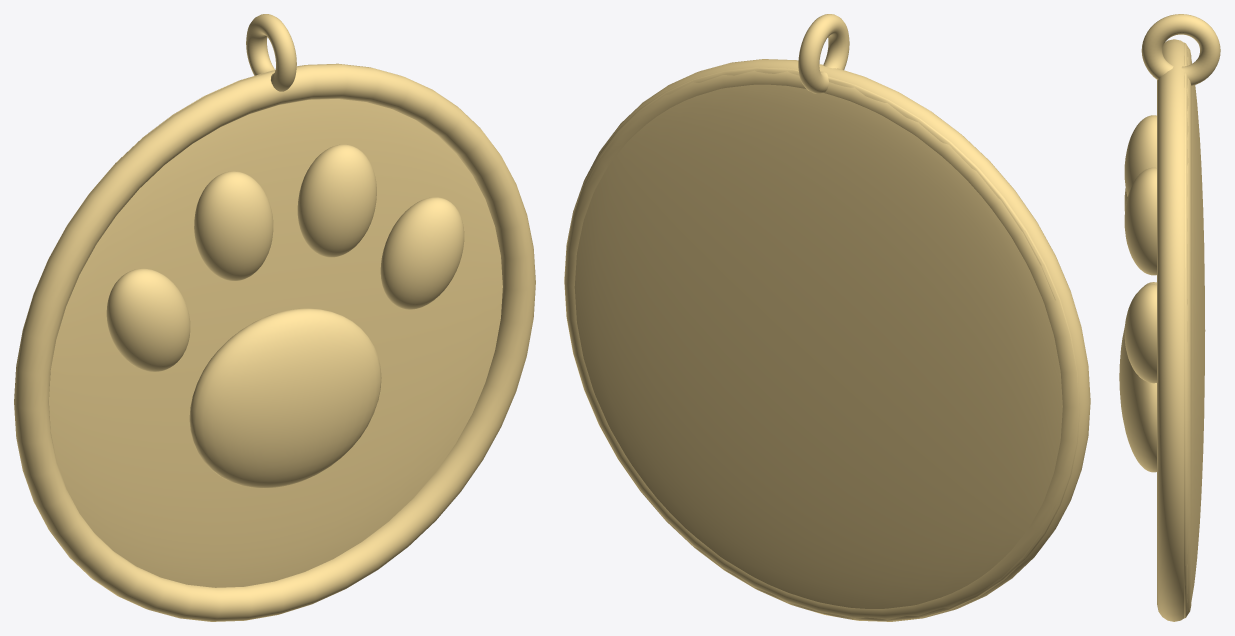
The model's file is dije-huella-oro.glb.
3 views of the same model, side by side, from view 1: azimuth 30°, elevation 25°; view 2: azimuth 150°, elevation 25°; view 3: azimuth 270°, elevation 25° (orthographic). The views are drawn at different scales.
Parts seen in each view (by area): view 1: Dije huella (oro); view 2: Dije huella (oro); view 3: Dije huella (oro).
Part boxes in pixels (x1,y1,x2,y2): Dije huella (oro): (14,14,535,621); Dije huella (oro): (564,14,1090,621); Dije huella (oro): (1119,14,1220,621).
Size of the model in its own units: 1.7 by 1.87 by 0.295.
